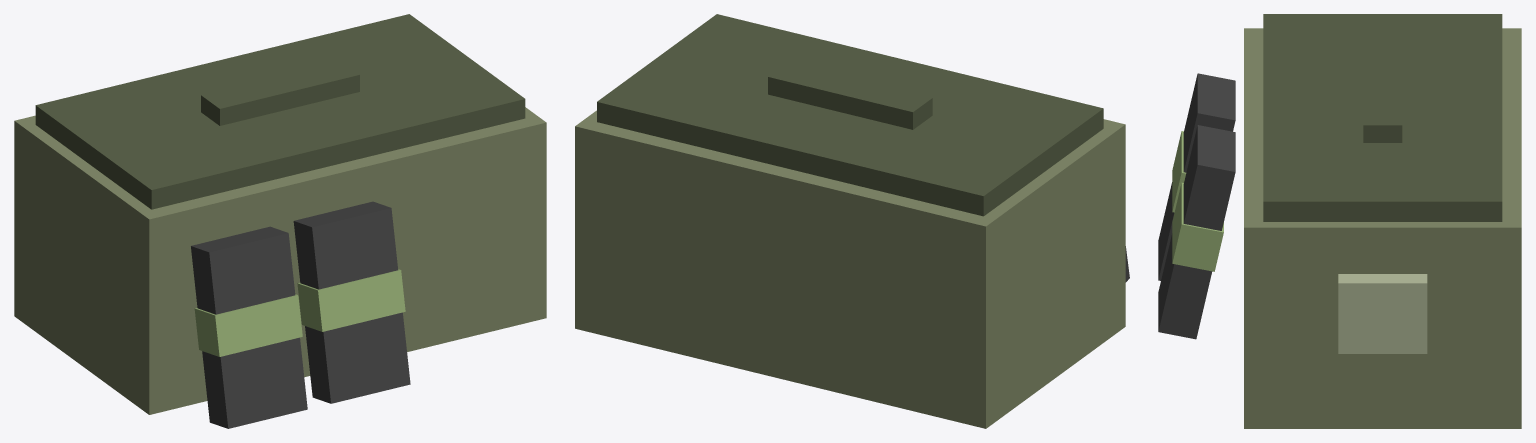
The model's file is ce_ammo_rifle_hp_c.obj.
3 renders of one model, left to right at view 1: azimuth 30°, elevation 25°; view 2: azimuth 150°, elevation 25°; view 3: azimuth 270°, elevation 25°, orthographic. The views are drawn at different scales.
Parts seen in each view (by area): view 1: ce_ammo_rifle_hp_c_0, ce_ammo_rifle_hp_c_1, ce_ammo_rifle_hp_c_4, ce_ammo_rifle_hp_c_6, ce_ammo_rifle_hp_c_2, ce_ammo_rifle_hp_c_7, ce_ammo_rifle_hp_c_5; view 2: ce_ammo_rifle_hp_c_0, ce_ammo_rifle_hp_c_1, ce_ammo_rifle_hp_c_2; view 3: ce_ammo_rifle_hp_c_0, ce_ammo_rifle_hp_c_1, ce_ammo_rifle_hp_c_6, ce_ammo_rifle_hp_c_3, ce_ammo_rifle_hp_c_4, ce_ammo_rifle_hp_c_2, ce_ammo_rifle_hp_c_7, ce_ammo_rifle_hp_c_5.
Boxes of the visible parts, x1=… form: ce_ammo_rifle_hp_c_0: x1=14, y1=107, x2=546, y2=414; ce_ammo_rifle_hp_c_1: x1=35, y1=14, x2=525, y2=209; ce_ammo_rifle_hp_c_4: x1=191, y1=226, x2=307, y2=428; ce_ammo_rifle_hp_c_6: x1=293, y1=201, x2=410, y2=403; ce_ammo_rifle_hp_c_2: x1=201, y1=61, x2=359, y2=125; ce_ammo_rifle_hp_c_7: x1=297, y1=269, x2=405, y2=331; ce_ammo_rifle_hp_c_5: x1=194, y1=294, x2=302, y2=356; ce_ammo_rifle_hp_c_0: x1=575, y1=110, x2=1125, y2=428; ce_ammo_rifle_hp_c_1: x1=597, y1=14, x2=1103, y2=216; ce_ammo_rifle_hp_c_2: x1=768, y1=62, x2=932, y2=129; ce_ammo_rifle_hp_c_0: x1=1244, y1=28, x2=1521, y2=428; ce_ammo_rifle_hp_c_1: x1=1263, y1=14, x2=1502, y2=221; ce_ammo_rifle_hp_c_6: x1=1158, y1=125, x2=1235, y2=339; ce_ammo_rifle_hp_c_3: x1=1338, y1=274, x2=1427, y2=353; ce_ammo_rifle_hp_c_4: x1=1158, y1=73, x2=1235, y2=280; ce_ammo_rifle_hp_c_2: x1=1363, y1=55, x2=1402, y2=142; ce_ammo_rifle_hp_c_7: x1=1172, y1=182, x2=1223, y2=271; ce_ammo_rifle_hp_c_5: x1=1172, y1=131, x2=1186, y2=212.
Bounding box in the file's own units: 0.89 × 0.475 × 0.6542.
